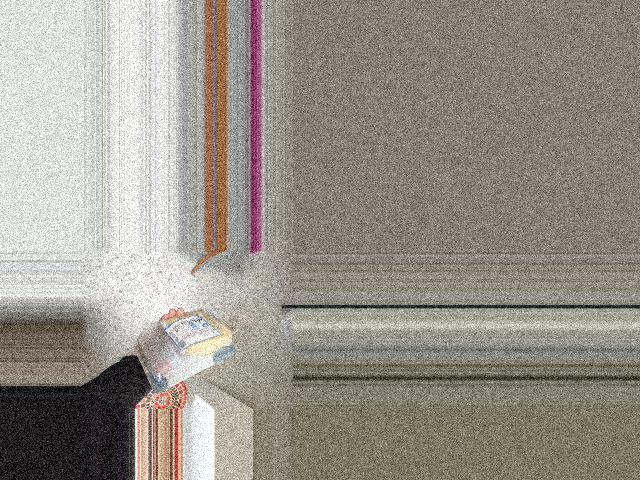cheese: (119, 307, 239, 391)
